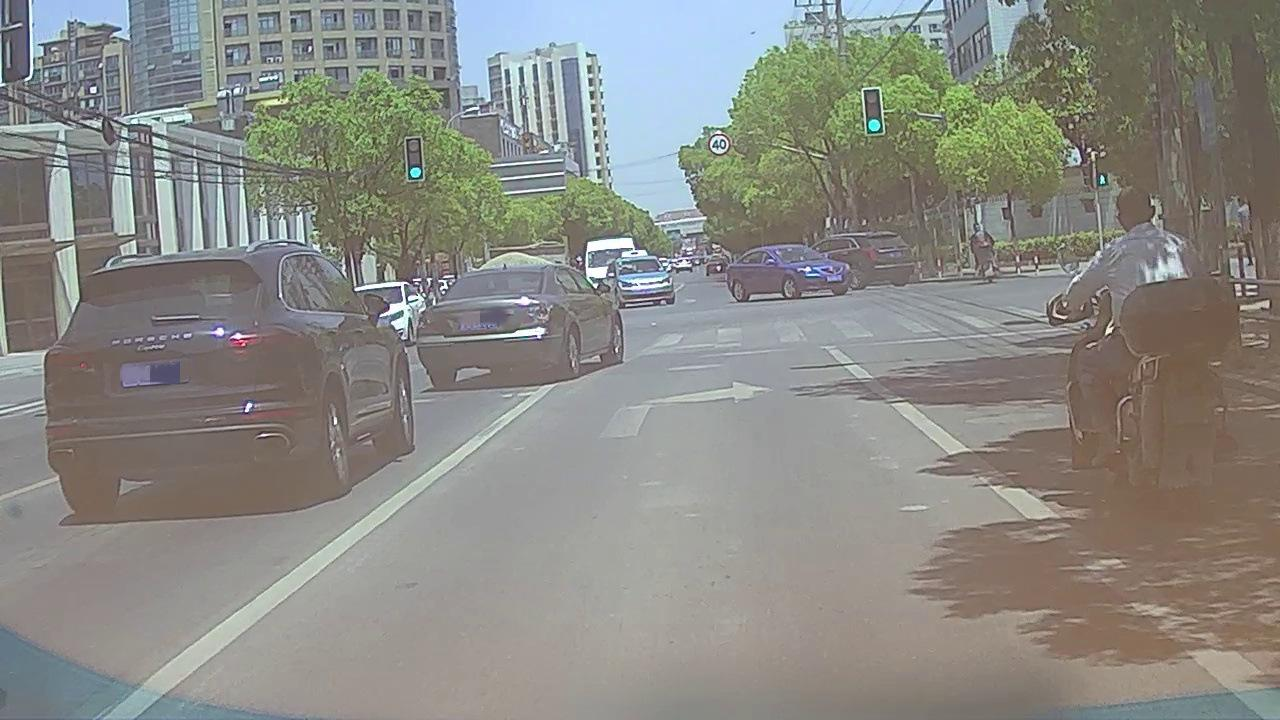traffic_light: (864, 88, 884, 134), (406, 139, 424, 181)
